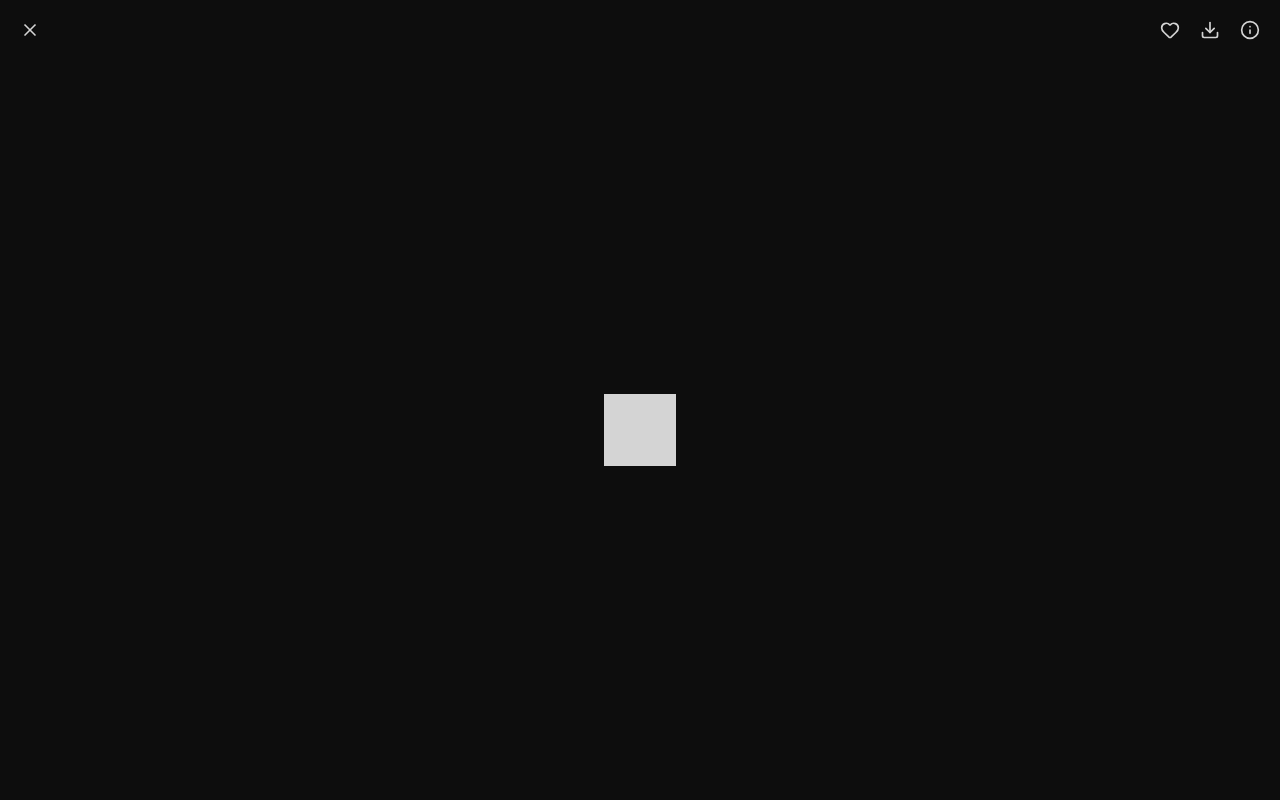
Viewer › muestra lugar, ruta y datos EXIF en el panel
Click the button named "Información". click: (1250, 30)
box: [1232,12,1268,48]
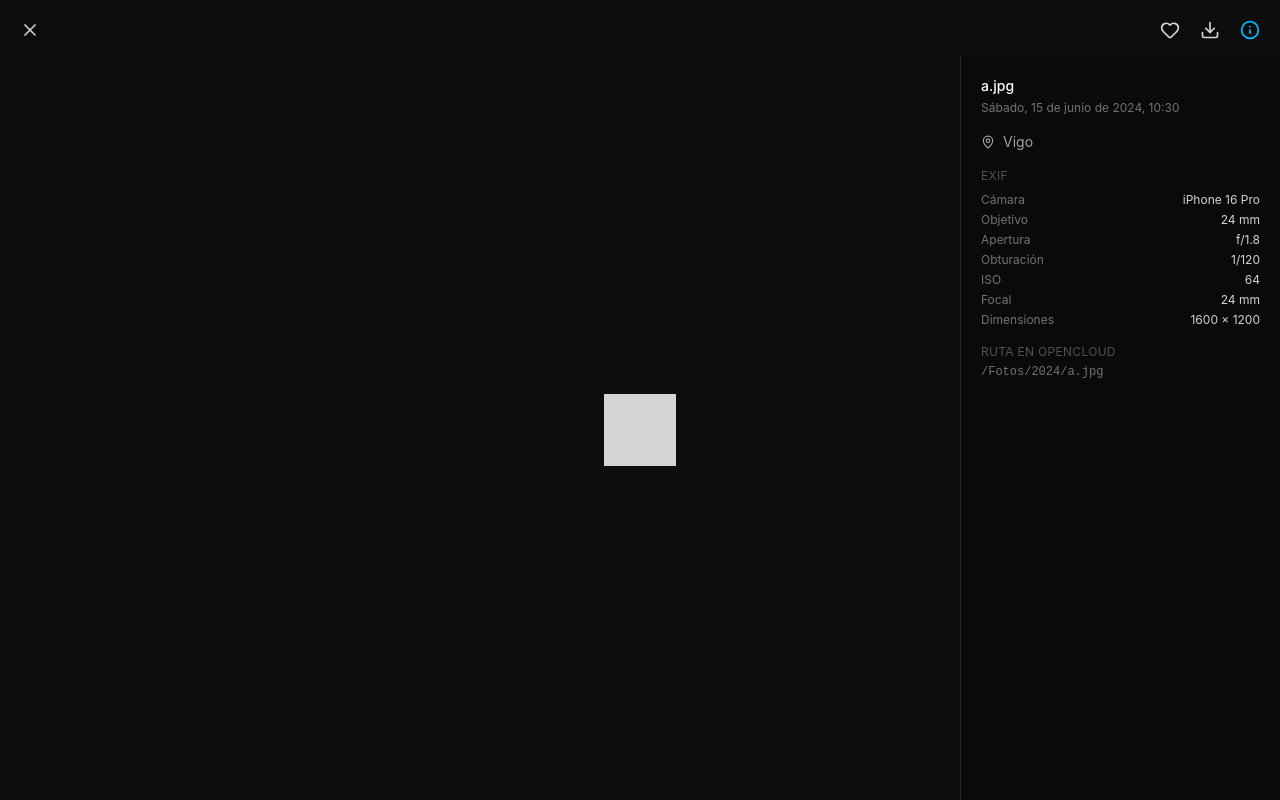
Expected: the element that starts with "a.jpg" shows "Vigo", [1003,133,1033,150]
Expected: the element that starts with "a.jpg" shows "/Fotos/2024/a.jpg", [981,365,1103,379]
Expected: the element that starts with "a.jpg" shows "iPhone 16 Pro", [1183,192,1260,207]
